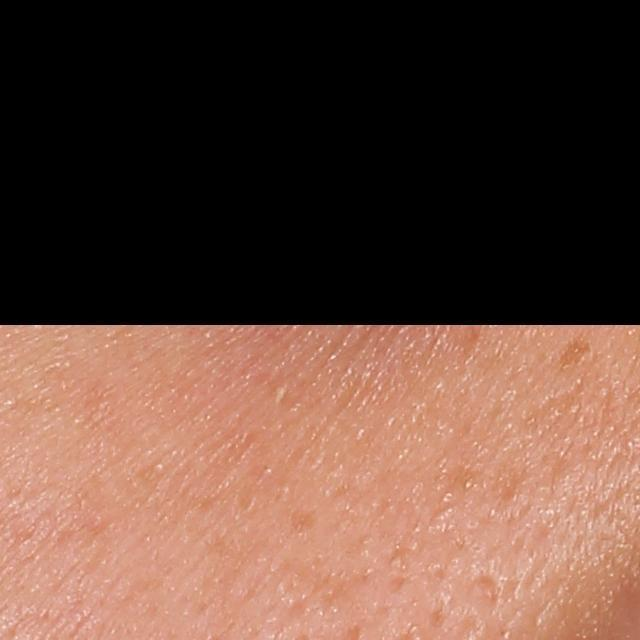atrophic_scar: (468, 570, 502, 612)
melasma: (556, 334, 591, 369)
